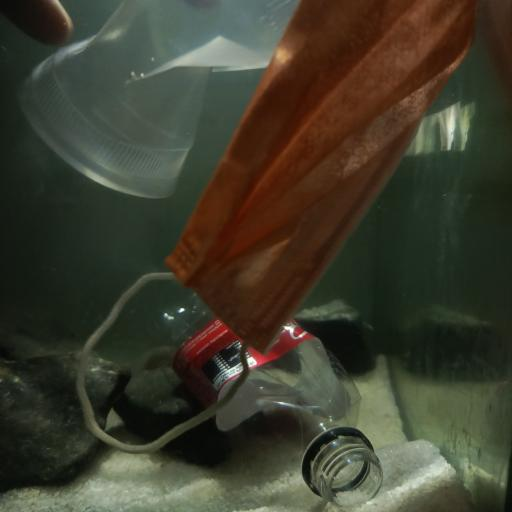mask: (75, 1, 484, 452)
plastic_bottle: (158, 276, 384, 506)
plastic_cup: (21, 0, 296, 204)
